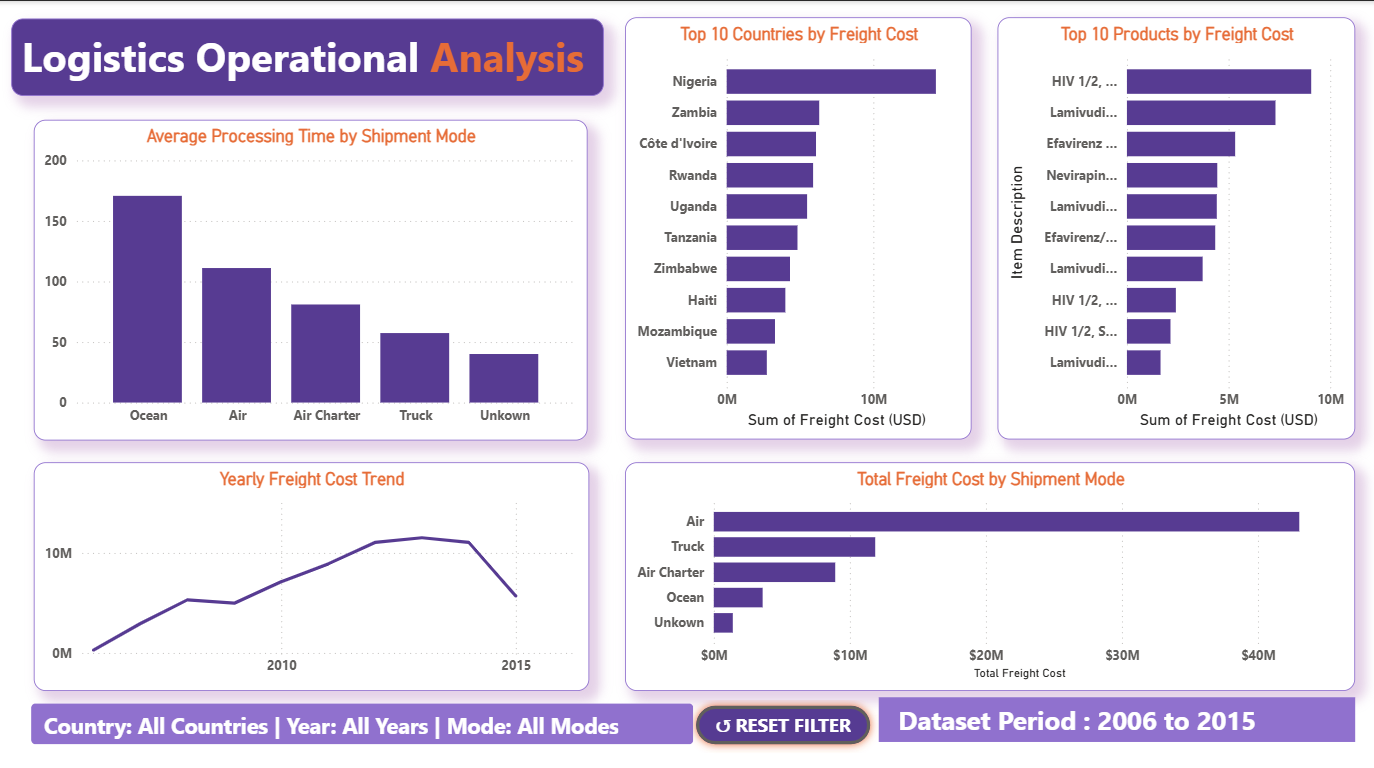

Layout of this report page (visuals, bound fields, positions):
{"tool":"powerbi","page":{"name":"Page 2","canvas":[1280,720],"ordinal":1},"visuals":[{"type":"textbox","box":[10,15.8,551,71.7],"z":0},{"type":"barChart","title":"Total Freight Cost by Shipment Mode","fields":{"Y":["fedex_cleaned.Total Freight Cost"],"Category":["fedex_cleaned.Shipment Mode"]},"box":[581.7,429,679.5,212.8],"z":1000},{"type":"clusteredBarChart","title":"Top 10 Countries by Freight Cost","fields":{"Category":["fedex_cleaned.Country"],"Y":["Sum(fedex_cleaned.Freight Cost (USD))"]},"box":[581.7,15.4,322.6,392.9],"z":2000},{"type":"clusteredColumnChart","title":"Average Processing Time by Shipment Mode","fields":{"Category":["fedex_cleaned.Shipment Mode"],"Y":["fedex_cleaned.Average Processing Time"]},"box":[31.6,110.5,515.2,298.5],"z":3000},{"type":"lineChart","title":"Yearly Freight Cost Trend","fields":{"Y":["Sum(fedex_cleaned.Freight Cost (USD))"],"Category":["fedex_cleaned.Delivery Year"]},"box":[30.9,429,516.5,212.8],"z":4000},{"type":"barChart","title":"Top 10 Products by Freight Cost","fields":{"Category":["fedex_cleaned.Item Description"],"Y":["Sum(fedex_cleaned.Freight Cost (USD))"]},"box":[928.3,15.4,332.9,392.9],"z":5000},{"type":"actionButton","title":"↺ Reset Filters","box":[640,647.2,177.9,51.7],"z":6000},{"type":"cardVisual","fields":{"Data":["fedex_cleaned.Filter Summary"]},"box":[0,624.6,674.3,96.1],"z":7000},{"type":"textbox","box":[817.9,647.2,443.4,41.6],"z":8000}]}

Visuals, with their boxes in screenshot pixels (x1, y1, x2, y2), scaled from the page's 1280x720 canvas onto the 1374x768 screenshot:
textbox: bbox(11, 17, 602, 93)
"Total Freight Cost by Shipment Mode" barChart: bbox(624, 458, 1354, 685)
"Top 10 Countries by Freight Cost" clusteredBarChart: bbox(624, 16, 971, 436)
"Average Processing Time by Shipment Mode" clusteredColumnChart: bbox(34, 118, 587, 436)
"Yearly Freight Cost Trend" lineChart: bbox(33, 458, 588, 685)
"Top 10 Products by Freight Cost" barChart: bbox(996, 16, 1354, 436)
"↺ Reset Filters" actionButton: bbox(687, 690, 878, 745)
cardVisual - fedex_cleaned.Filter Summary: bbox(0, 666, 724, 767)
textbox: bbox(878, 690, 1354, 735)
